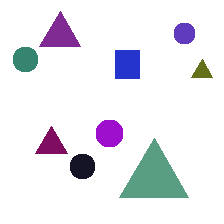circle: (96, 120, 122, 146), (70, 154, 94, 178), (13, 47, 37, 71), (174, 23, 194, 43)
rectangle: (115, 50, 139, 78)
triangle: (119, 138, 188, 197), (39, 11, 80, 46), (35, 126, 67, 153), (191, 59, 212, 77)
